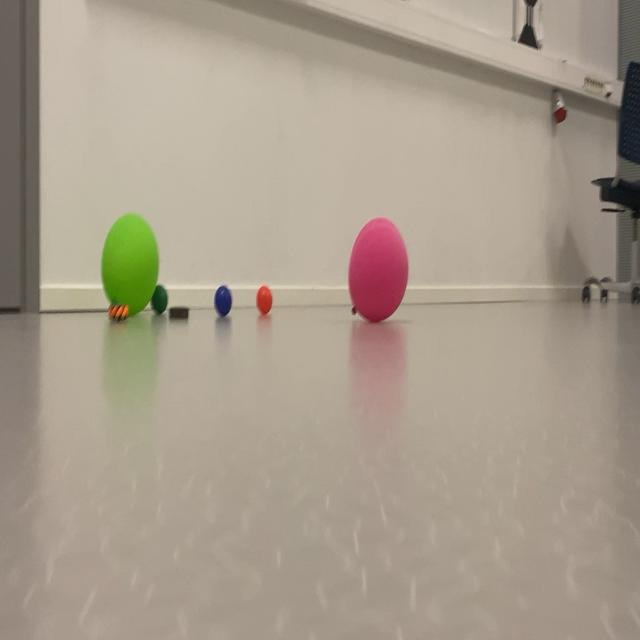7: (249, 247, 284, 365)
green ball: (212, 254, 243, 364)
red ball: (144, 263, 174, 319)
